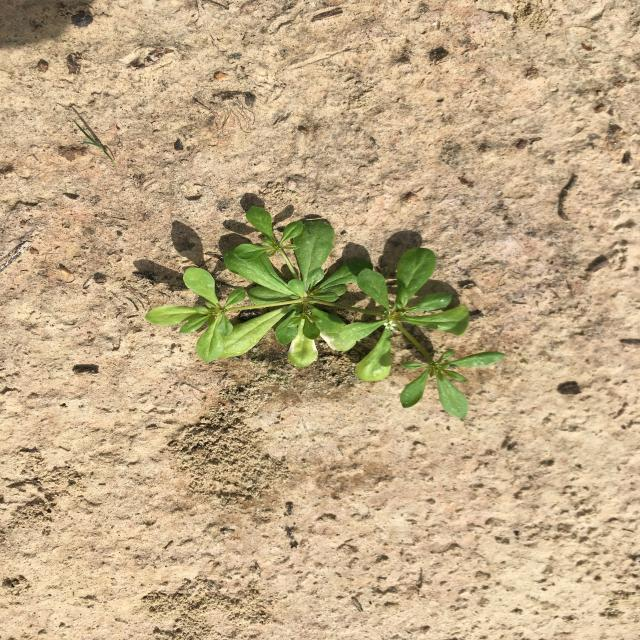Carpetweed: (145, 205, 505, 419)
